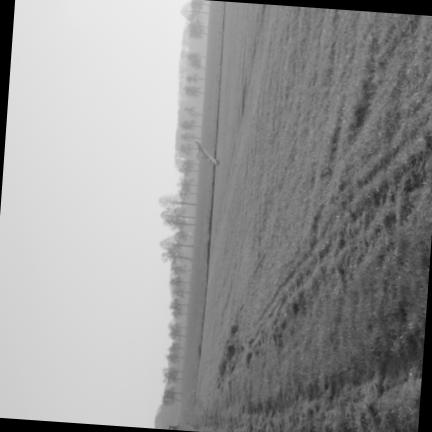Shahed: (194, 139, 221, 164)
